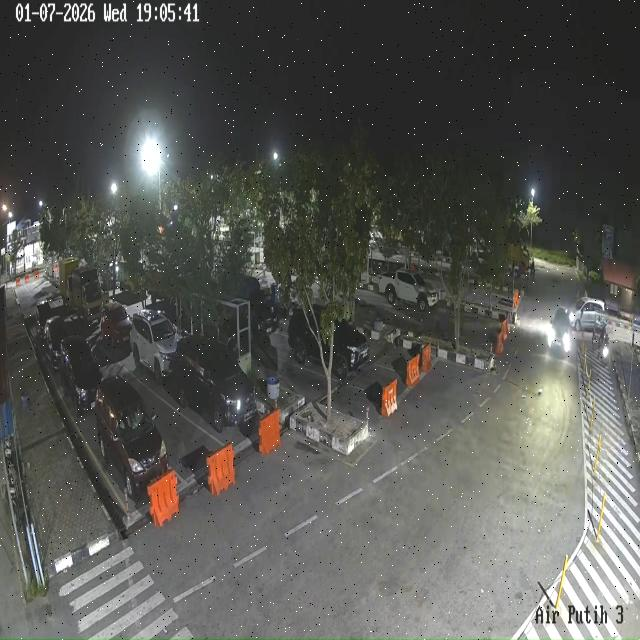Golongan IVA: (96, 376, 169, 500), (173, 334, 256, 432), (288, 305, 369, 379), (129, 309, 178, 384), (59, 335, 102, 417), (101, 301, 131, 346), (44, 316, 69, 370), (570, 297, 607, 331), (548, 308, 572, 352), (36, 300, 52, 340)
Golongan IVB: (378, 270, 438, 311)
Golongan VB: (67, 265, 109, 323)
